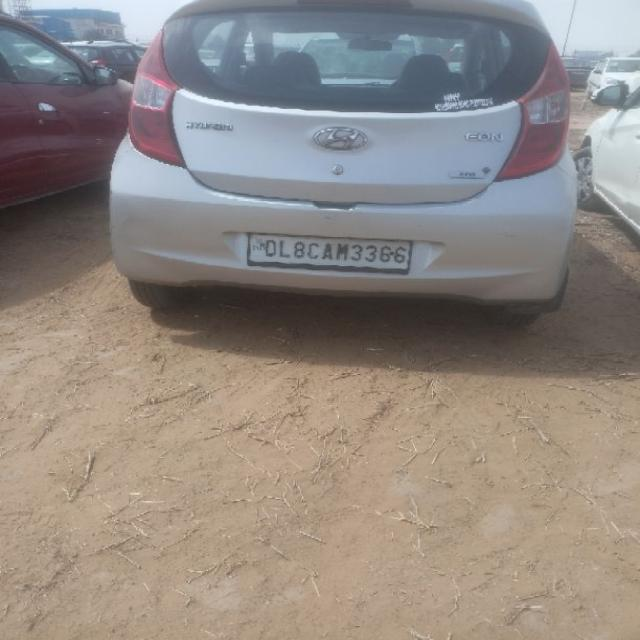license_plate: (245, 231, 412, 274)
